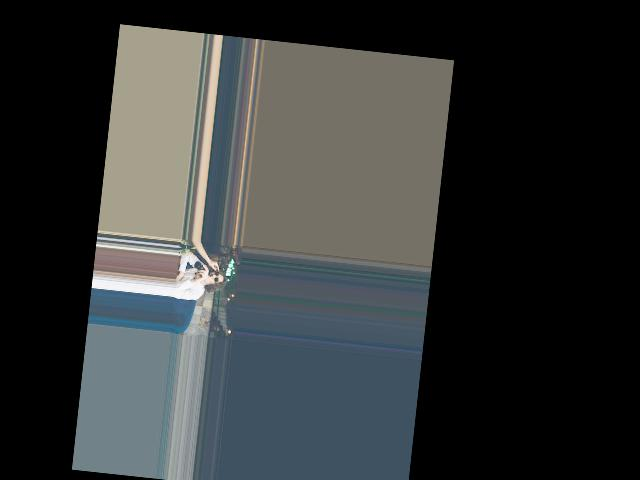beer: (192, 259, 213, 276)
